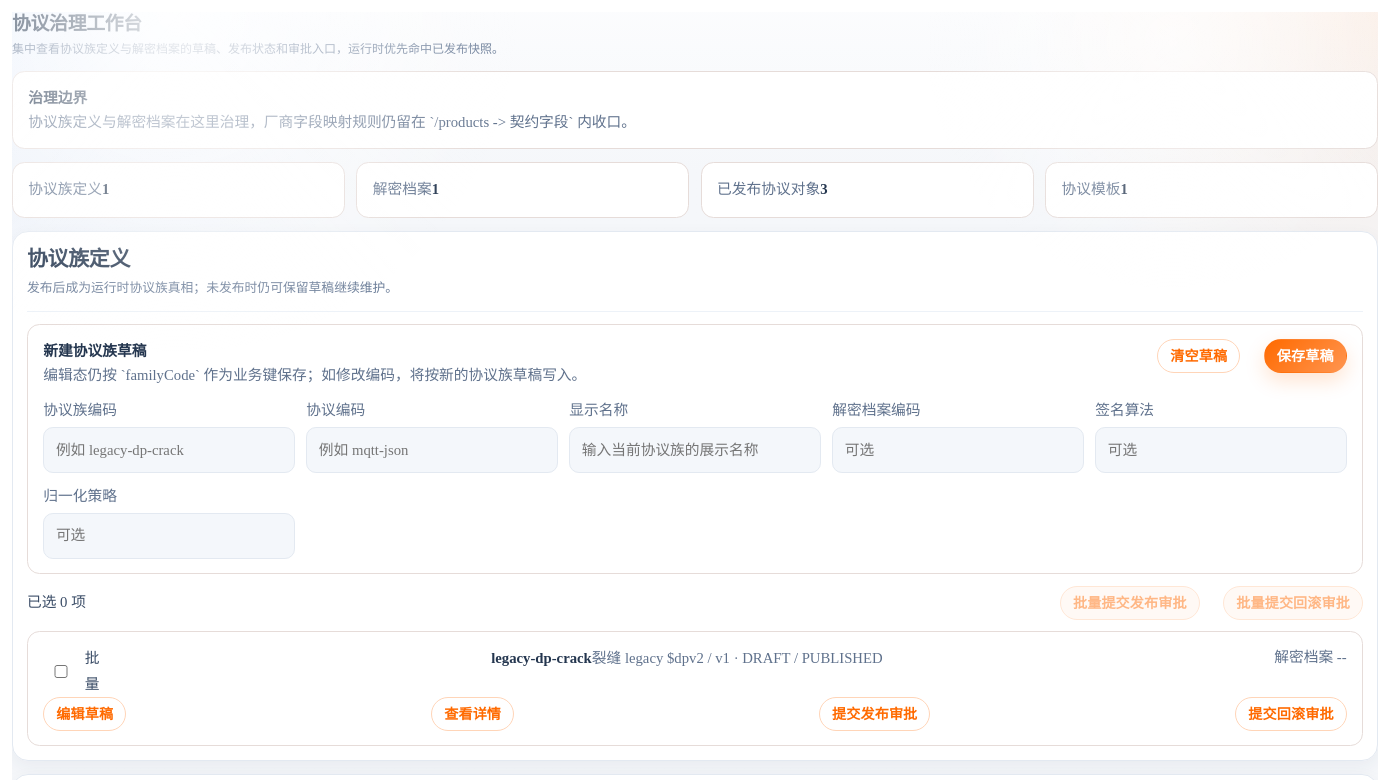
ProtocolGovernanceWorkbenchView › loads family detail before applying it to the draft editor
The width and height of the screenshot is (1378, 780).
Click the button with test id "protocol-family-detail-9101" at (473, 714), box [431, 697, 514, 731]
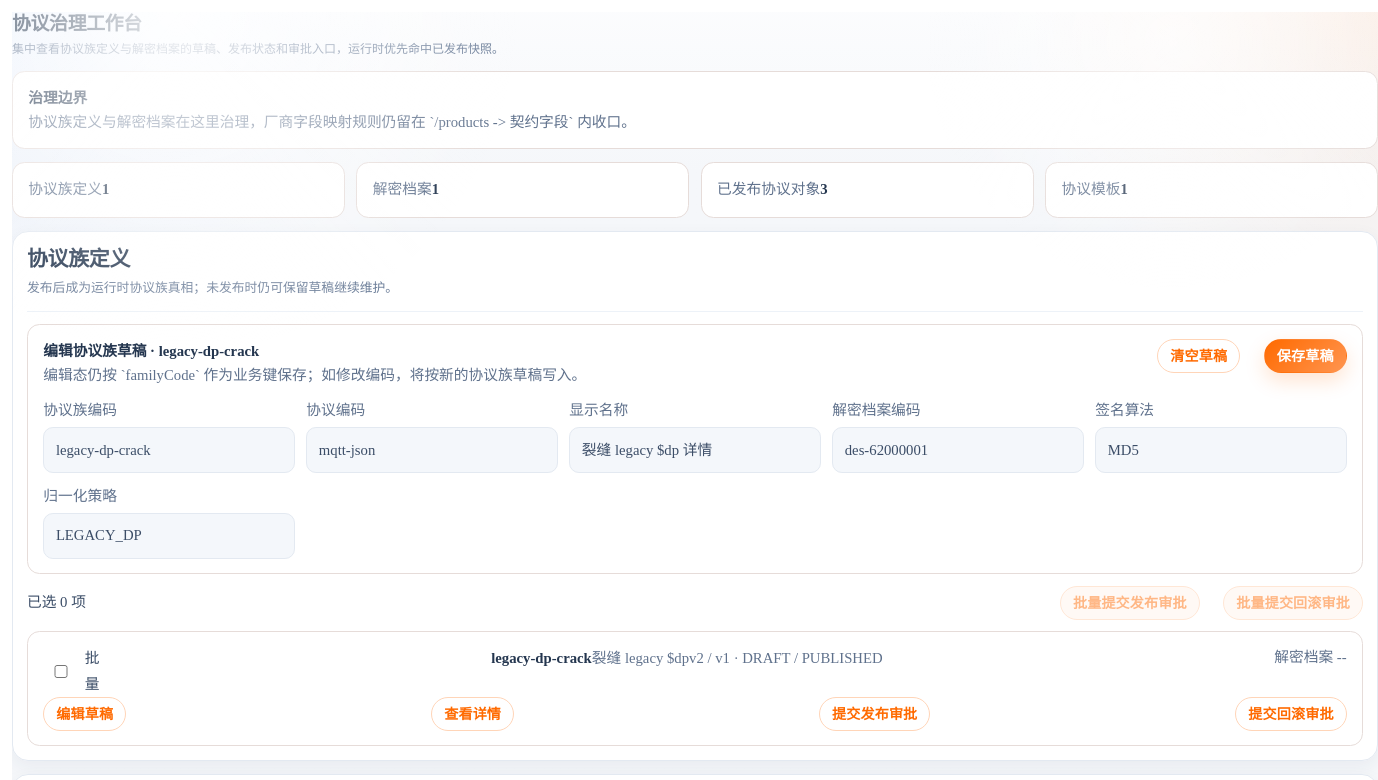
Check: the field with test id "protocol-family-display-name" holds "裂缝 legacy $dp 详情", box [569, 427, 821, 473]
